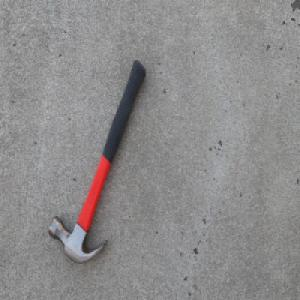Hammer: (47, 59, 146, 265)
